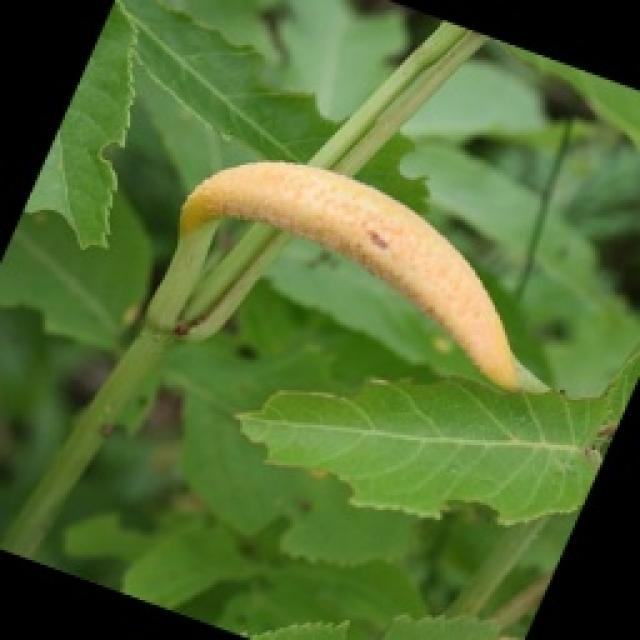Elderberry_rust: (172, 155, 538, 395)
